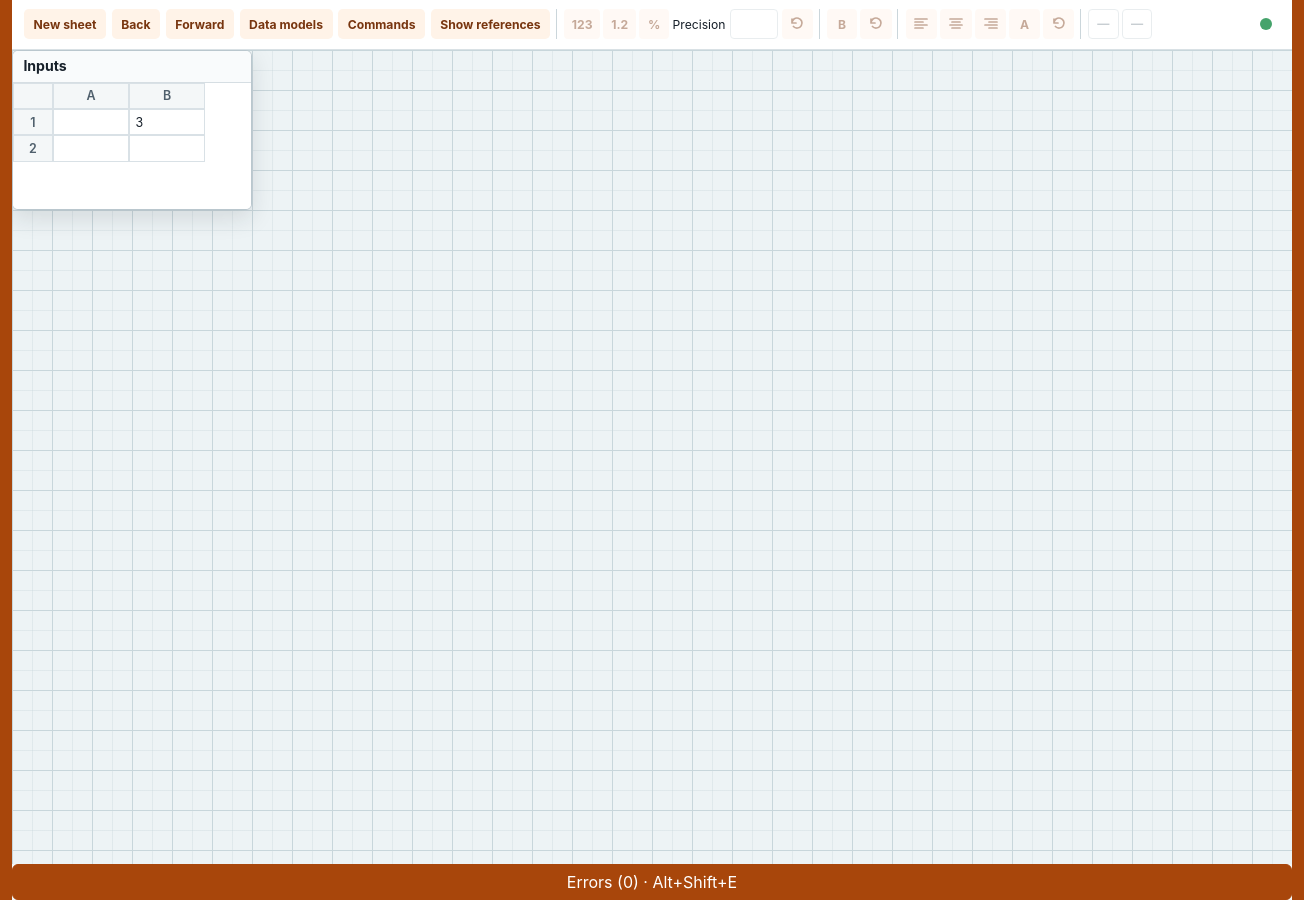
Test case: grid-retargeted double click editing › opens A1 with its light editor and focus (x: 50, value: , selected: false)
This screenshot has width=1304, height=900.
Press the mouse on the cell named "Inputs A1 empty cell" at (91, 122), box [53,109,129,135]
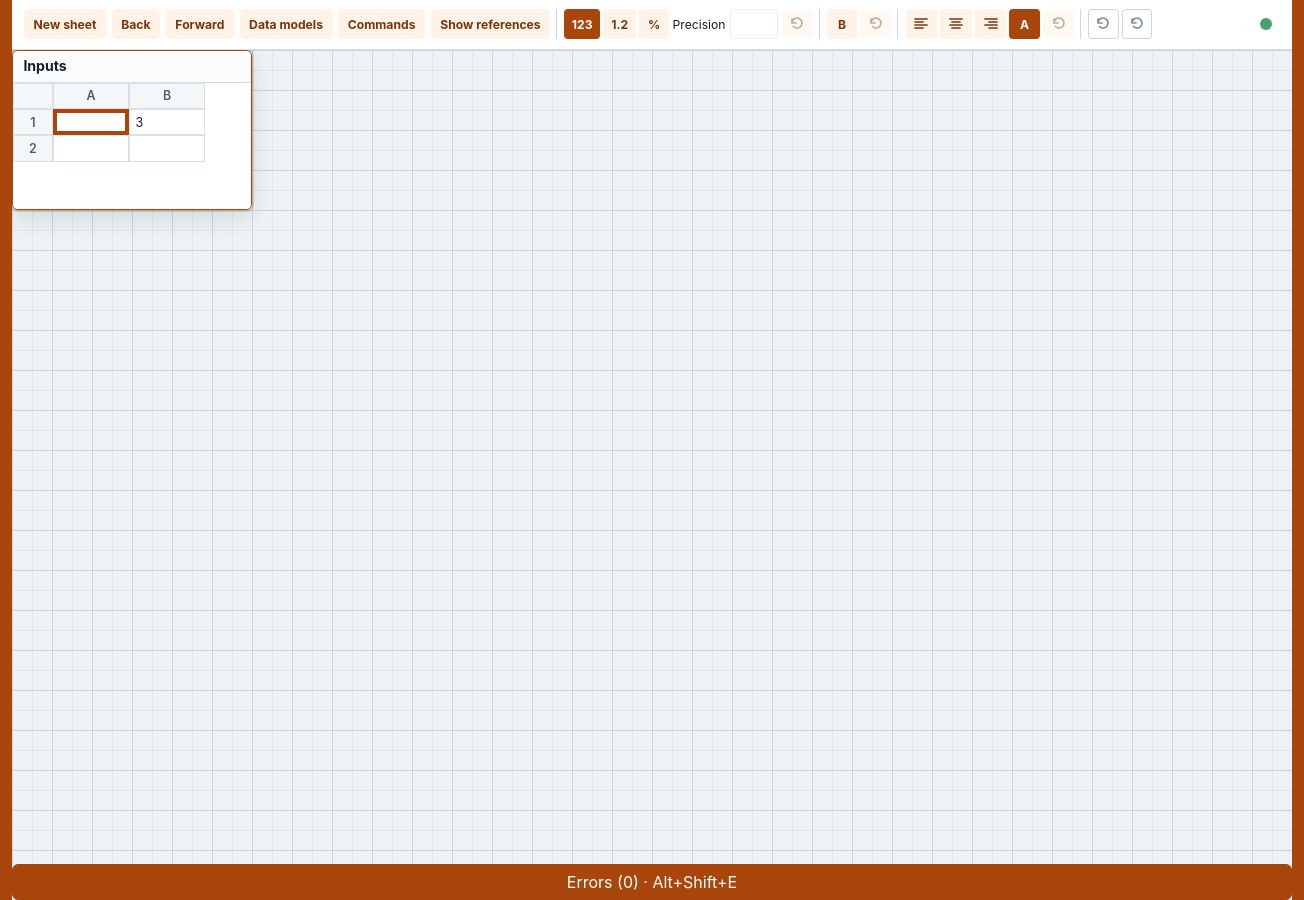
Press the mouse on the cell named "Inputs A1 empty cell" at (91, 122), box [53,109,129,135]
Double-click the table with test id "sheet-grid" at (109, 123), box [13,83,205,163]
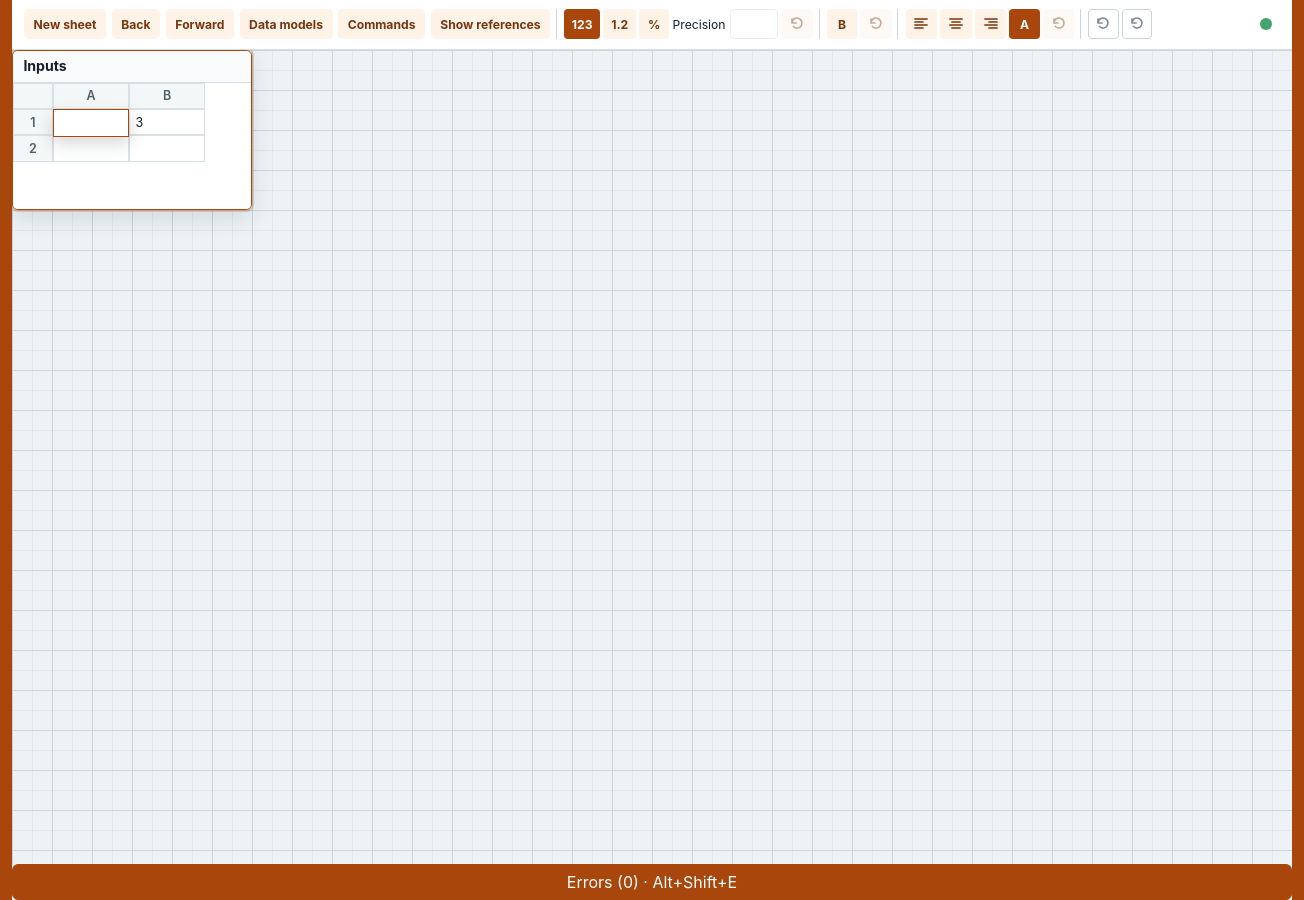
Check: the number of text boxes named "Inputs A1 editor" is 1, box [54,110,128,136]
Check: the text box named "Inputs A1 editor" is empty, box [54,110,128,136]
Check: the element named "Inputs A1 editor" is shown, box [53,109,129,137]
